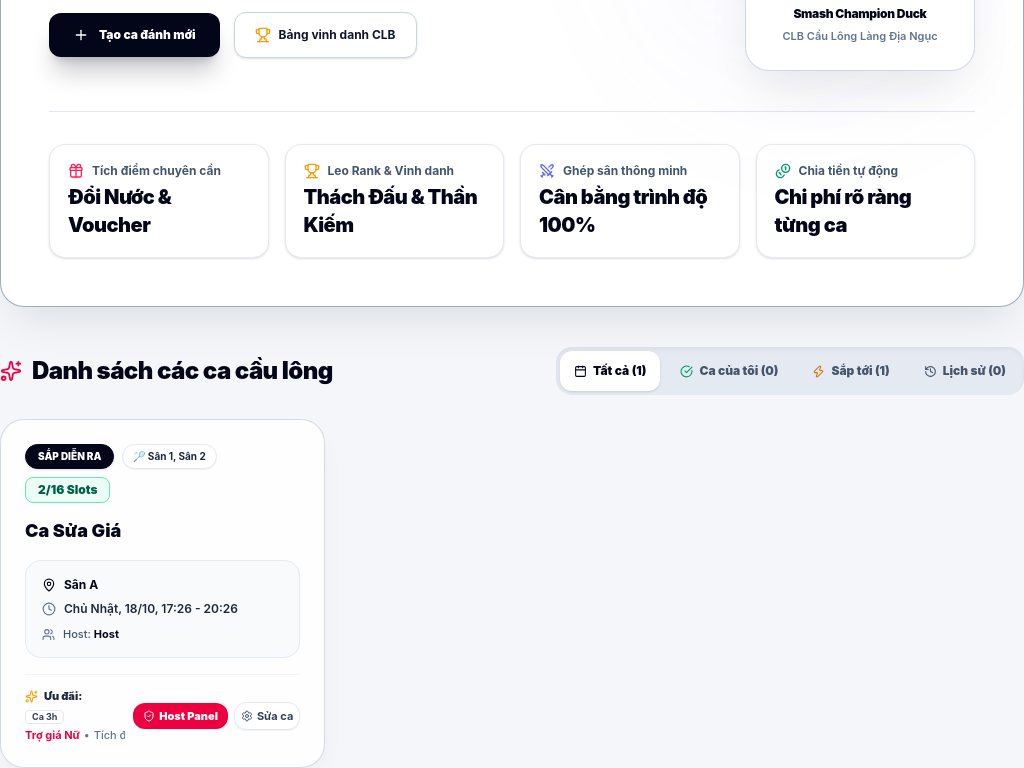
Test: SessionListView — sửa nhanh ca: giá 2h & làm mới dữ liệu › ô datetime-local hiển thị đúng giờ VN của ca
(page scrolled)
Click the button "Sửa ca" at (267, 716), box [234, 702, 300, 730]
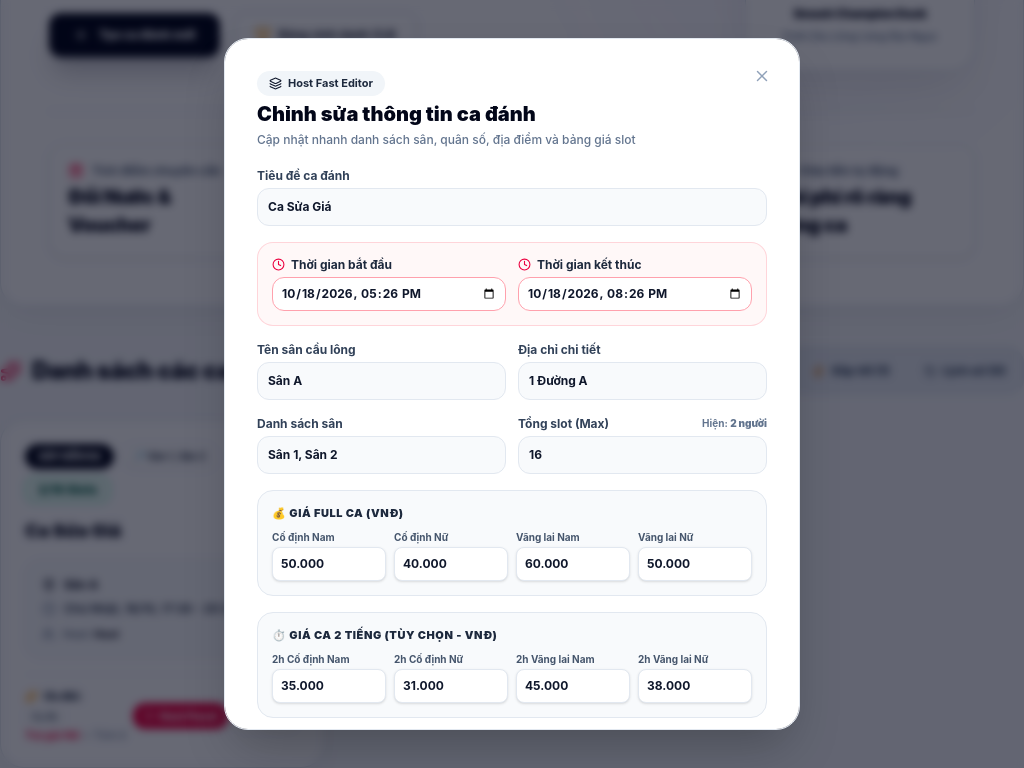
Expected: the heading "Chỉnh sửa thông tin ca đánh" is shown, [257, 102, 536, 126]
